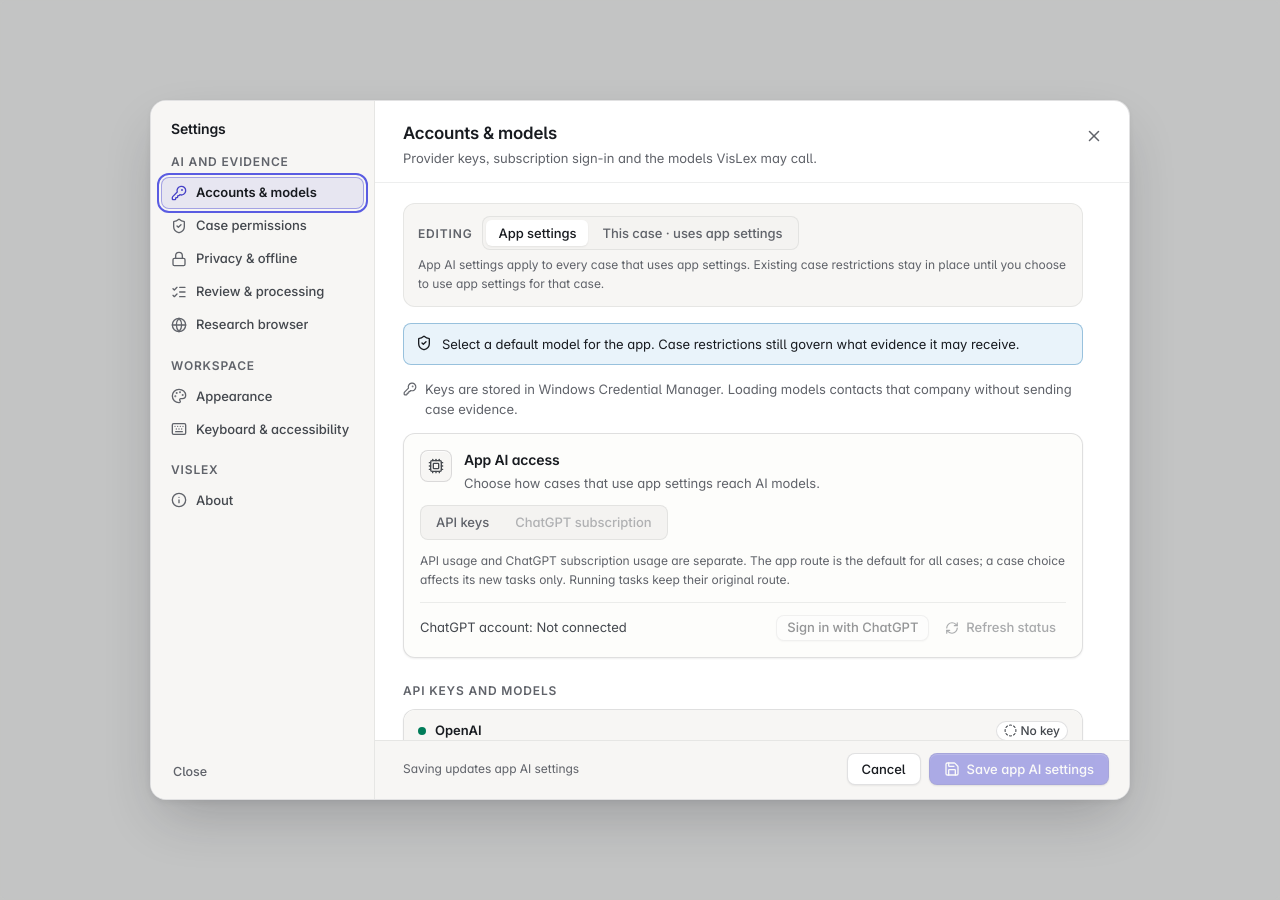
it: Settings → Research browser switches the case, edits sign-in hosts and signs out
Click the button "Research browser" at x=262, y=325, box [161,309,364,341]
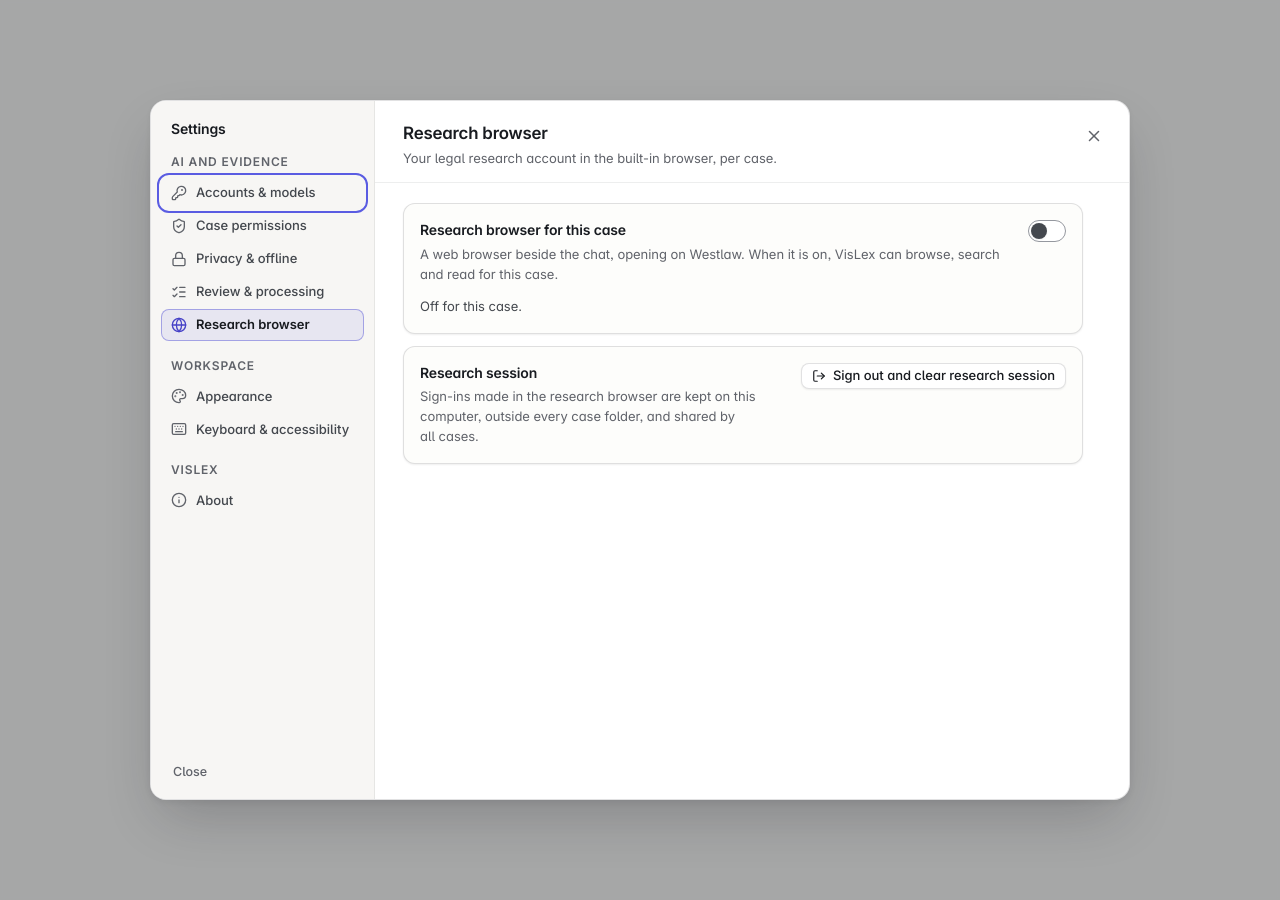
Expected: the heading "Research browser" is shown, [403,123,548,143]
Expected: the switch named "Research browser for this case" is enabled
Click the switch named "Research browser for this case" at x=1047, y=231, box [1028,220,1066,242]
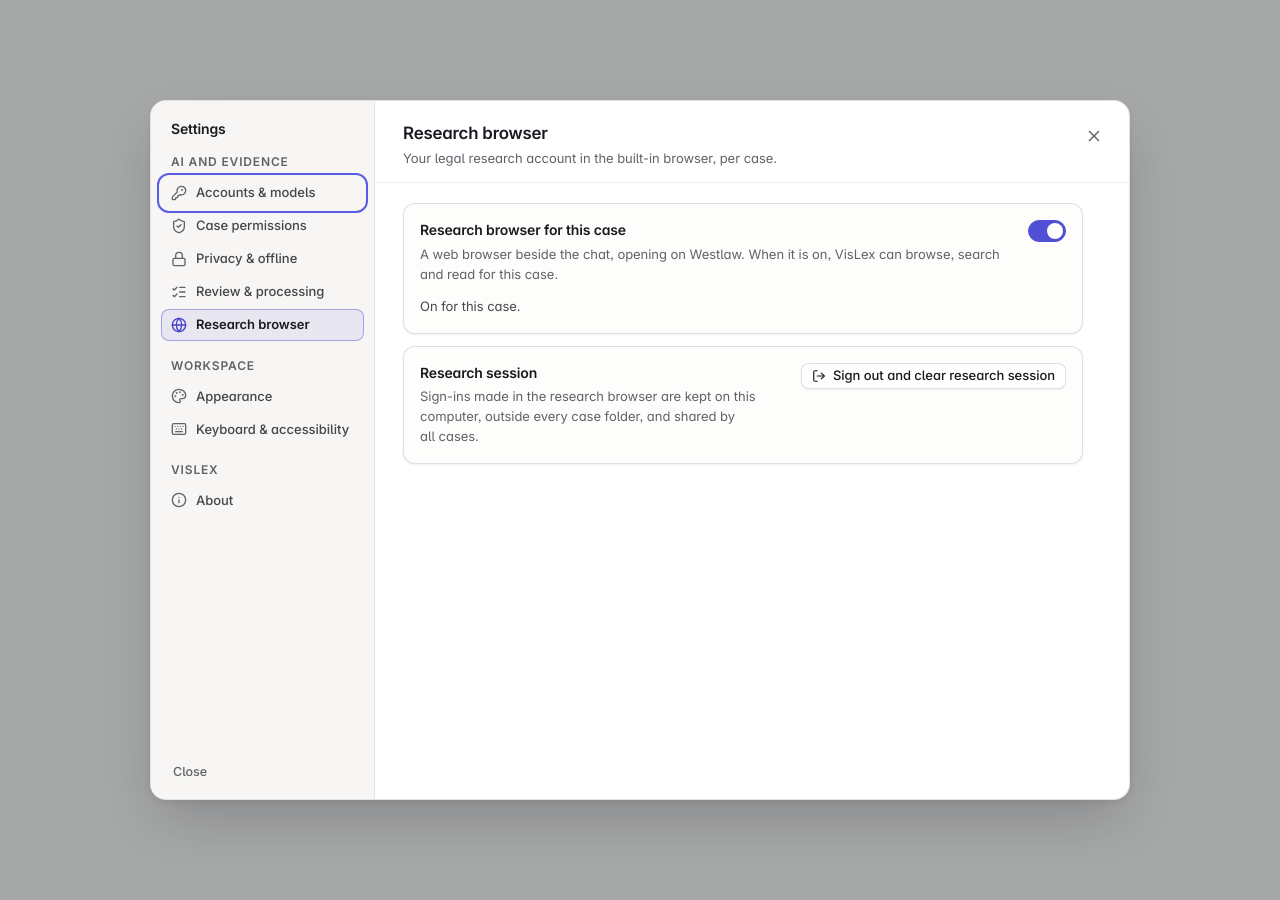
Expected: the switch named "Research browser for this case" is checked, [1028,220,1066,242]
Click the button "Sign out and clear research session" at x=933, y=376, box [801,363,1066,389]
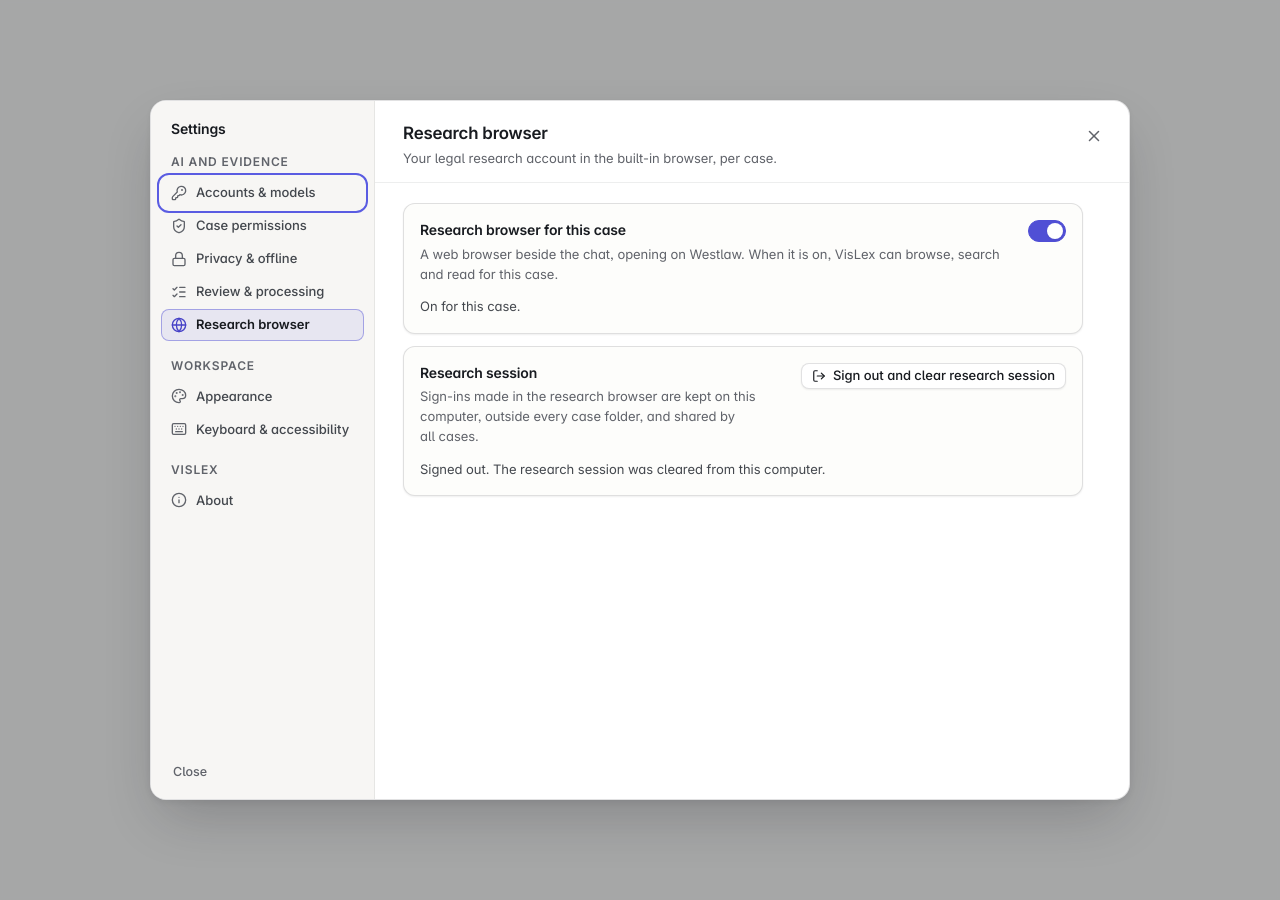
Expected: the text "Signed out. The research session was cleared from this computer." is shown, [420,460,826,476]
